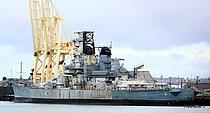MIL_Ship: (12, 47, 197, 105)
